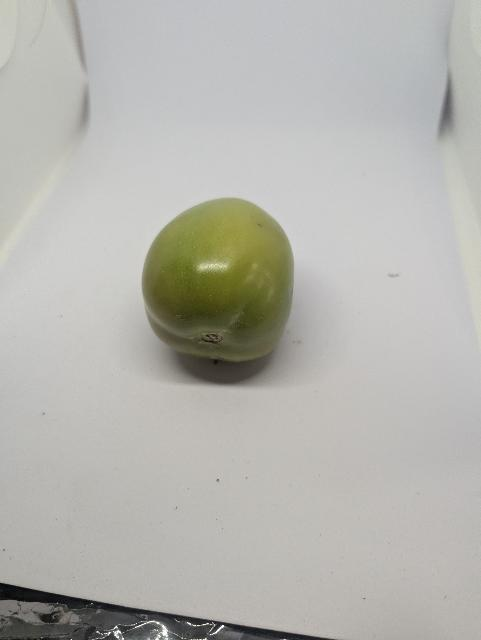green: (140, 196, 298, 364)
